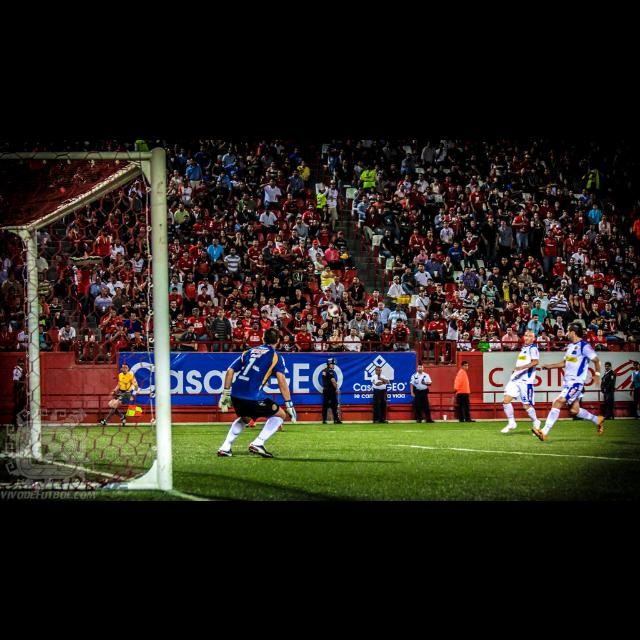Football: (328, 302, 340, 316)
